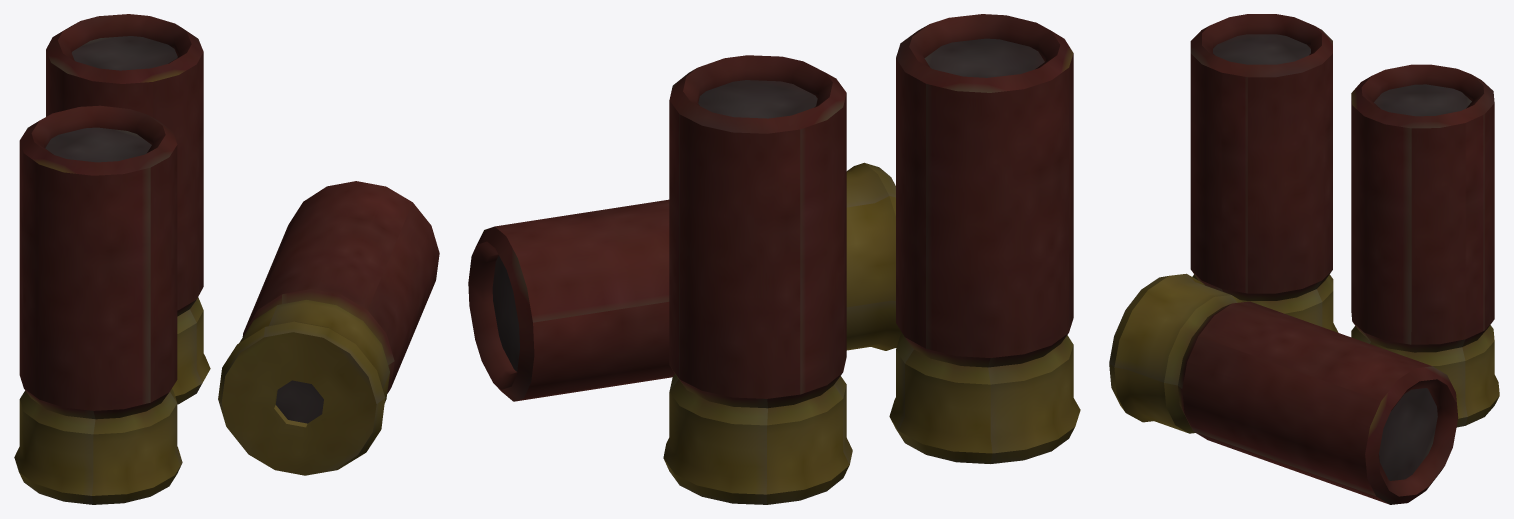
File: shotgun_ammo_1.obj
The picture shows the model from 3 angles, left to right: view 1: azimuth 30°, elevation 25°; view 2: azimuth 150°, elevation 25°; view 3: azimuth 270°, elevation 25°; orthographic projection. The views are drawn at different scales.
Parts seen in each view (by area): view 1: shotgun_ammo_1; view 2: shotgun_ammo_1; view 3: shotgun_ammo_1.
Part boxes in pixels (<box>): shotgun_ammo_1: <box>14,14,439,504</box>; shotgun_ammo_1: <box>468,14,1080,504</box>; shotgun_ammo_1: <box>1109,14,1499,504</box>.
Size of the model in its own units: 0.1239 by 0.0854 by 0.0971.
